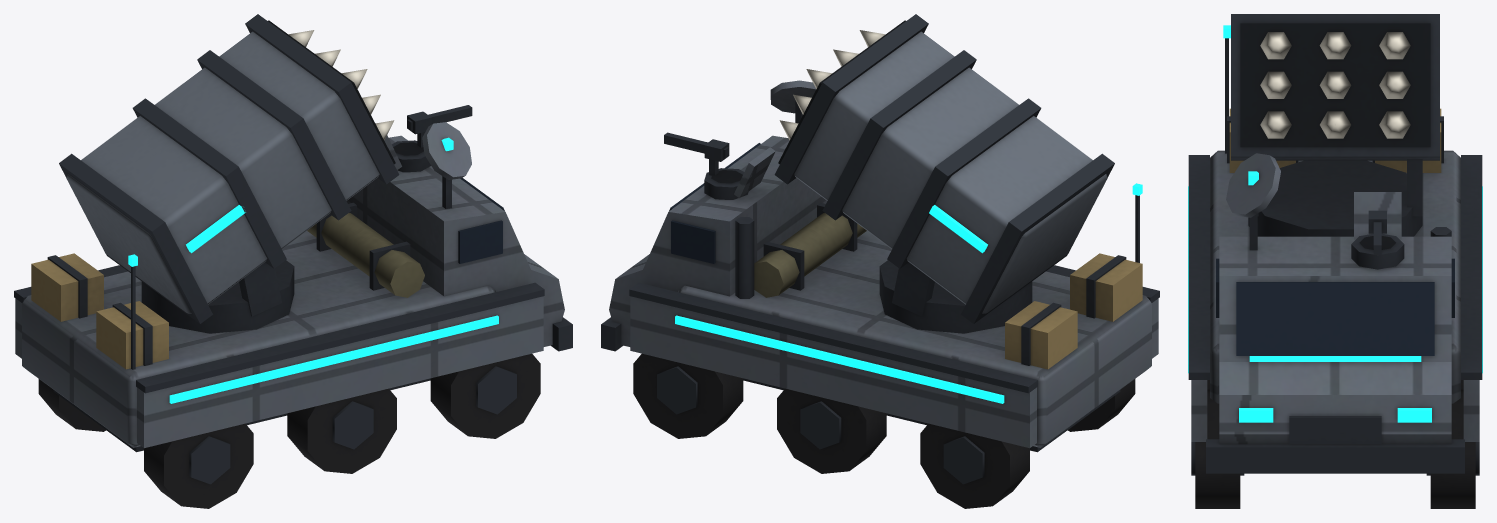
The model's file is rocket_launcher.glb.
3 views of the same model, side by side, from view 1: azimuth 30°, elevation 25°; view 2: azimuth 150°, elevation 25°; view 3: azimuth 270°, elevation 25° (orthographic). The views are drawn at different scales.
Visible parts, largest first — view 1: hull; view 2: hull; view 3: hull.
Boxes of the visible parts, box(x1,y1,x2,y2) form: hull: box(14, 14, 572, 508); hull: box(601, 14, 1159, 508); hull: box(1188, 14, 1482, 508).
Size of the model in its own units: 0.43 by 0.351 by 0.223.
Materials: 2 (1 with a texture image).
